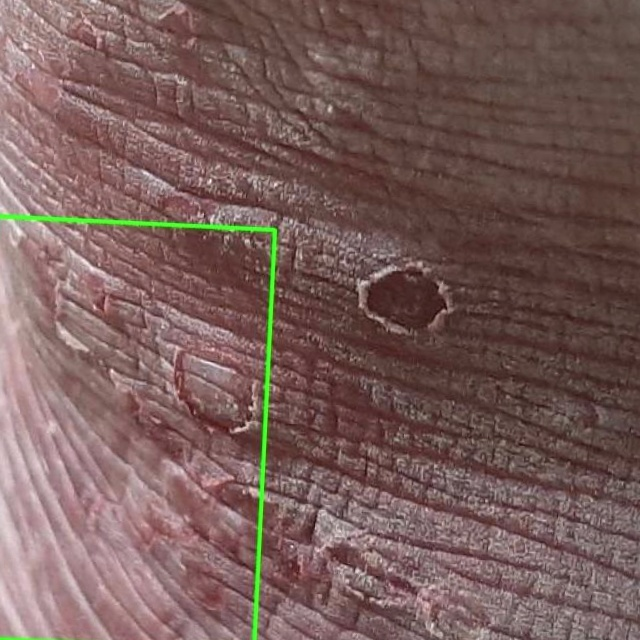Contact Dermatitis: (0, 217, 276, 639)
